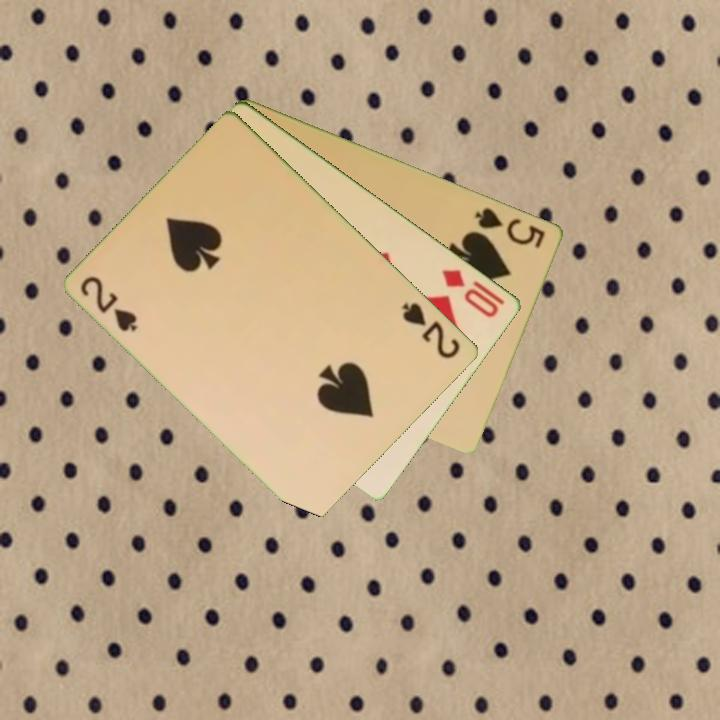10d: (438, 265, 503, 321)
2s: (399, 298, 464, 362), (77, 272, 141, 335)
5s: (472, 203, 549, 252)
